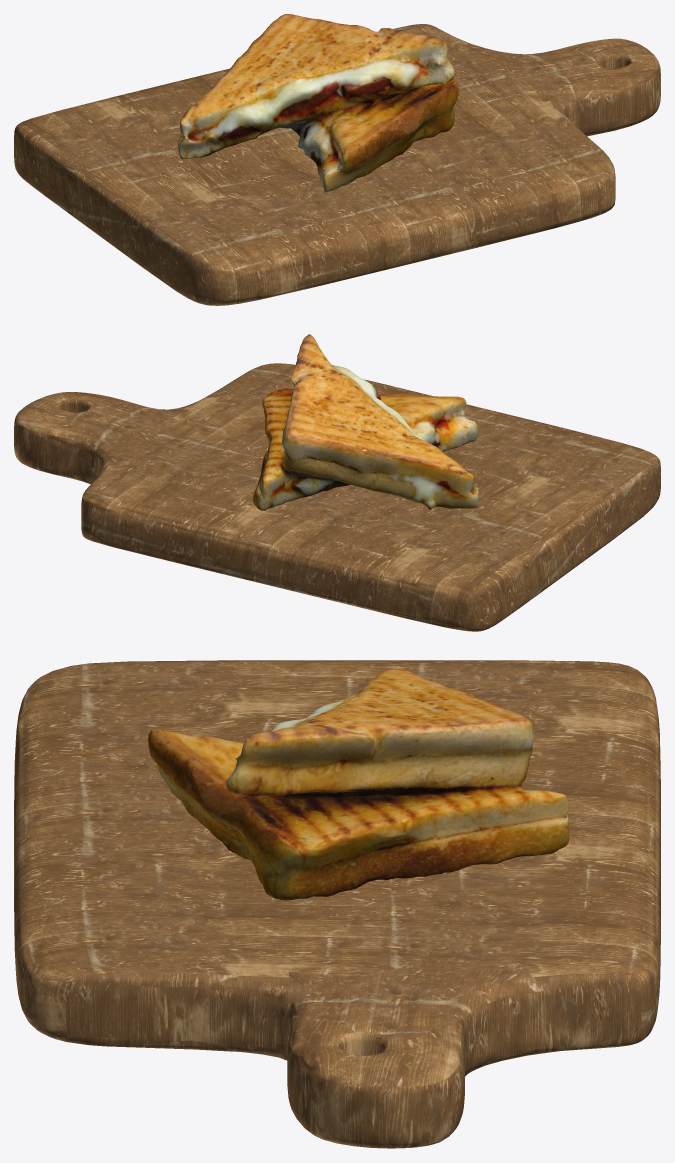
The model's file is Tost_Bundan_Enson_2.glb.
3 views of the same model, one above another, from view 1: azimuth 30°, elevation 25°; view 2: azimuth 150°, elevation 25°; view 3: azimuth 270°, elevation 25° (orthographic). The views are drawn at different scales.
Visible parts, largest first — view 1: Cube_003, Mesh_0_Part_0.004; view 2: Cube_003, Mesh_0_Part_0.004; view 3: Cube_003, Mesh_0_Part_0.004.
Part boxes in pixels (x1,y1,x2,y2): Cube_003: [14, 24, 660, 305]; Mesh_0_Part_0.004: [178, 14, 458, 192]; Cube_003: [14, 363, 660, 631]; Mesh_0_Part_0.004: [253, 334, 478, 510]; Cube_003: [14, 660, 660, 1148]; Mesh_0_Part_0.004: [148, 667, 569, 900].
Size of the model in its own units: 32.42 by 8.23 by 20.92.
Materials: 2 (2 with a texture image).
